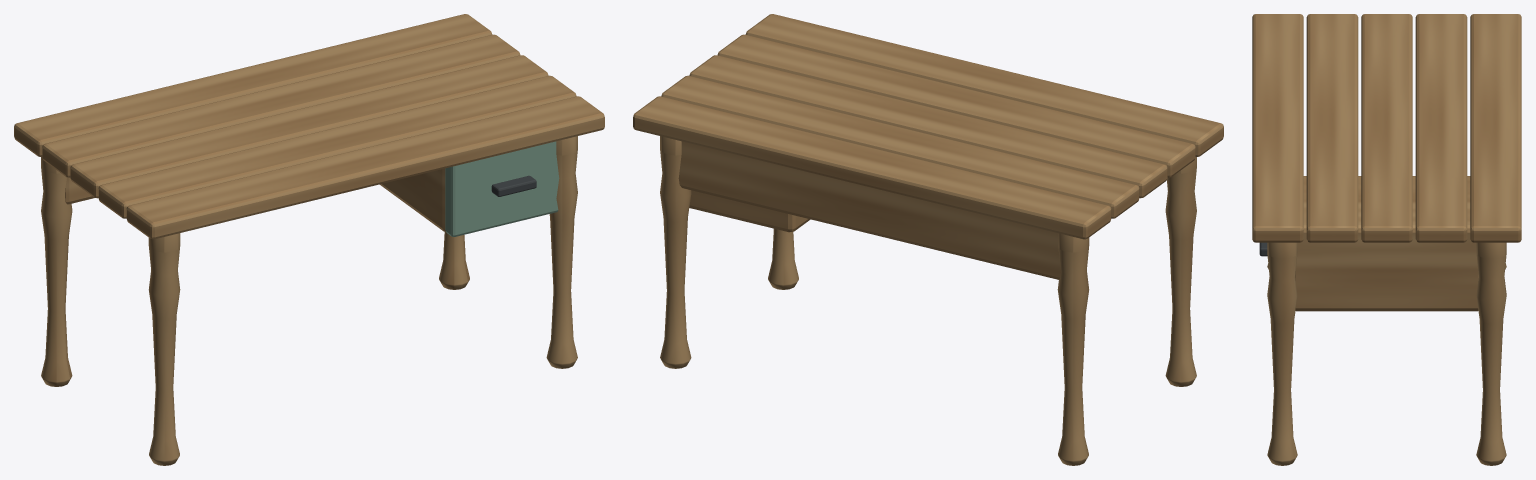
File: desk.glb
The picture shows the model from 3 angles, left to right: view 1: azimuth 30°, elevation 25°; view 2: azimuth 150°, elevation 25°; view 3: azimuth 270°, elevation 25°; orthographic projection. The views are drawn at different scales.
Visible parts, largest first — view 1: desktop_0, desktop_3, desktop_1, desktop_2, desktop_4, drawer_front, turned_leg.012, turned_leg.013, turned_leg.014, drawer_box, turned_leg.015, drawer_pull; view 2: desktop_4, back_apron, desktop_1, desktop_3, desktop_0, desktop_2, turned_leg.013, turned_leg.012, turned_leg.015, drawer_box, turned_leg.014; view 3: drawer_box, desktop_1, desktop_3, desktop_0, desktop_4, desktop_2, turned_leg.014, turned_leg.015.
Part boxes in pixels (x1,y1,x2,y2): desktop_0: (126, 96, 604, 239); desktop_3: (42, 34, 520, 177); desktop_1: (98, 75, 576, 218); desktop_2: (70, 55, 548, 198); desktop_4: (14, 14, 492, 156); drawer_front: (445, 141, 559, 236); turned_leg.012: (148, 233, 180, 465); turned_leg.013: (41, 157, 72, 386); turned_leg.014: (546, 136, 577, 368); drawer_box: (379, 168, 445, 231); turned_leg.015: (439, 232, 469, 289); drawer_pull: (491, 175, 536, 196); desktop_4: (633, 96, 1111, 239); back_apron: (678, 141, 1060, 279); desktop_1: (717, 34, 1195, 177); desktop_3: (661, 75, 1139, 218); desktop_0: (745, 14, 1223, 156); desktop_2: (689, 55, 1167, 198); turned_leg.013: (1057, 233, 1089, 465); turned_leg.012: (1165, 157, 1196, 386); turned_leg.015: (660, 136, 691, 368); drawer_box: (689, 190, 810, 232); turned_leg.014: (768, 228, 798, 289); drawer_box: (1295, 176, 1478, 311); desktop_1: (1306, 14, 1358, 242); desktop_3: (1415, 14, 1467, 242); desktop_0: (1252, 14, 1303, 242); desktop_4: (1470, 14, 1521, 242); desktop_2: (1361, 14, 1412, 242); turned_leg.014: (1267, 242, 1297, 465); turned_leg.015: (1476, 242, 1506, 465).
Bounding box in the file's own units: 1.4 × 0.75 × 0.742.
4 materials, 2 textured.
